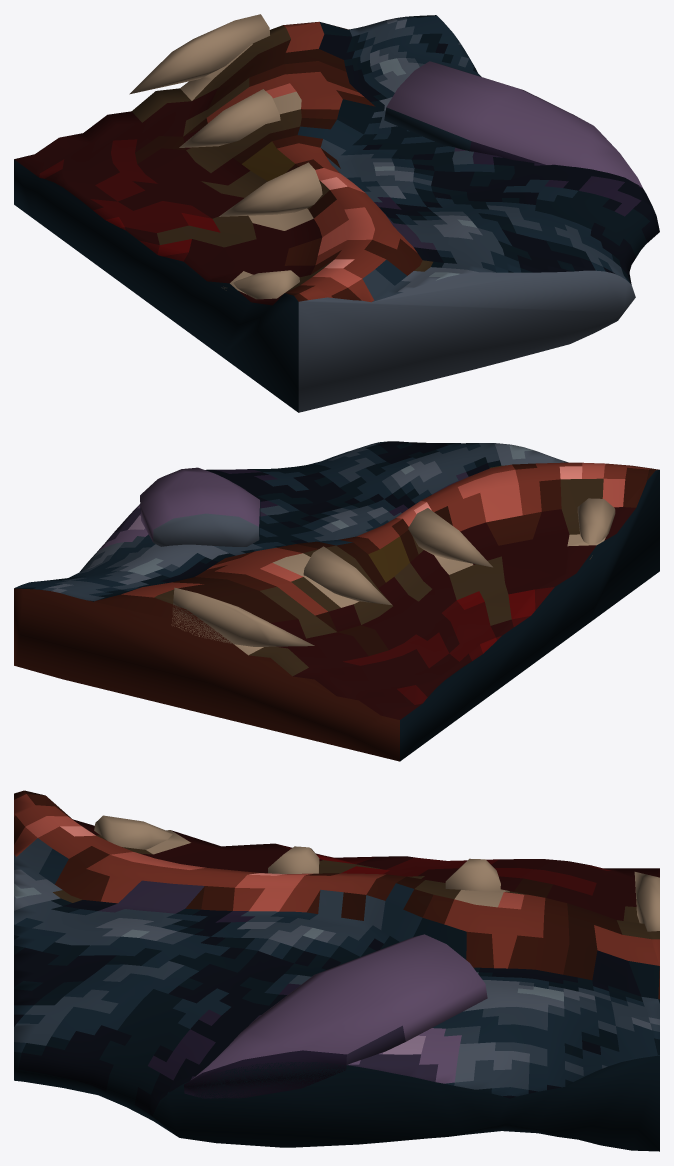
The model's file is newshn-159.glb.
The picture shows the model from 3 angles, top to bottom: view 1: azimuth 30°, elevation 25°; view 2: azimuth 150°, elevation 25°; view 3: azimuth 270°, elevation 25°; orthographic projection. The views are drawn at different scales.
Visible parts, largest first — view 1: newshn-159; view 2: newshn-159; view 3: newshn-159.
Boxes of the visible parts, bbox=[...] form: newshn-159: bbox=[14, 14, 659, 412]; newshn-159: bbox=[14, 441, 659, 761]; newshn-159: bbox=[14, 790, 659, 1151].
Size of the model in its own units: 2 by 0.5895 by 2.33.
